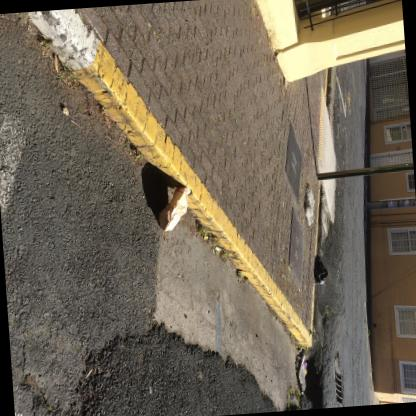Paper: (157, 187, 190, 232), (300, 360, 306, 377), (295, 356, 300, 368)
Plastic: (314, 255, 325, 286)
